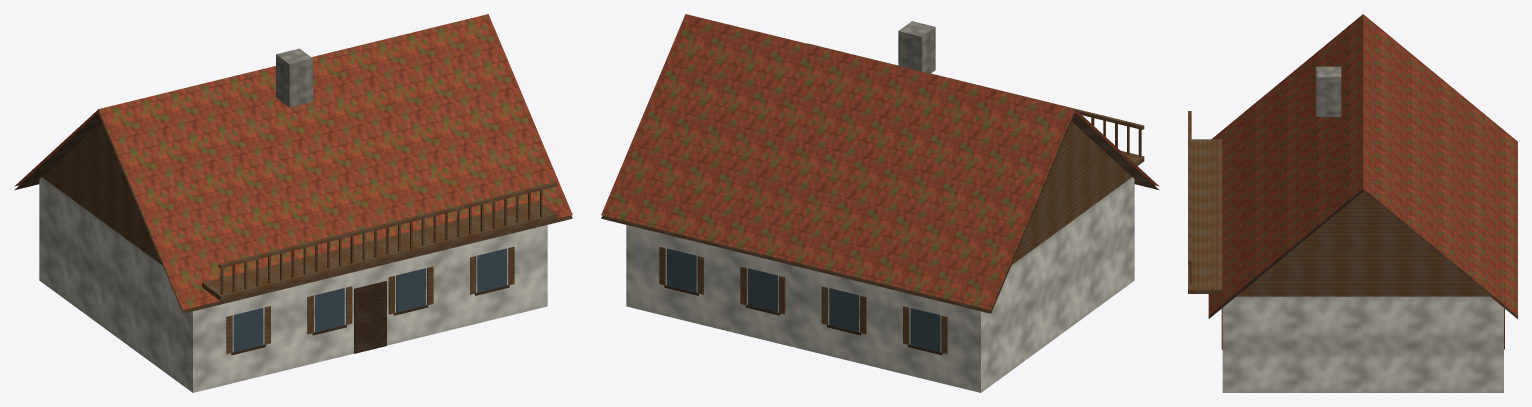
The model's file is village_house_a.glb.
3 views of the same model, side by side, from view 1: azimuth 30°, elevation 25°; view 2: azimuth 150°, elevation 25°; view 3: azimuth 270°, elevation 25° (orthographic). The views are drawn at different scales.
Parts seen in each view (by area): view 1: village_house_a; view 2: village_house_a; view 3: village_house_a.
Part boxes in pixels (bbox=[...]): village_house_a: bbox=[14, 14, 572, 392]; village_house_a: bbox=[601, 14, 1159, 392]; village_house_a: bbox=[1188, 14, 1517, 392].
Size of the model in its own units: 13.2 by 8.25 by 10.55.
6 materials, 5 textured.
